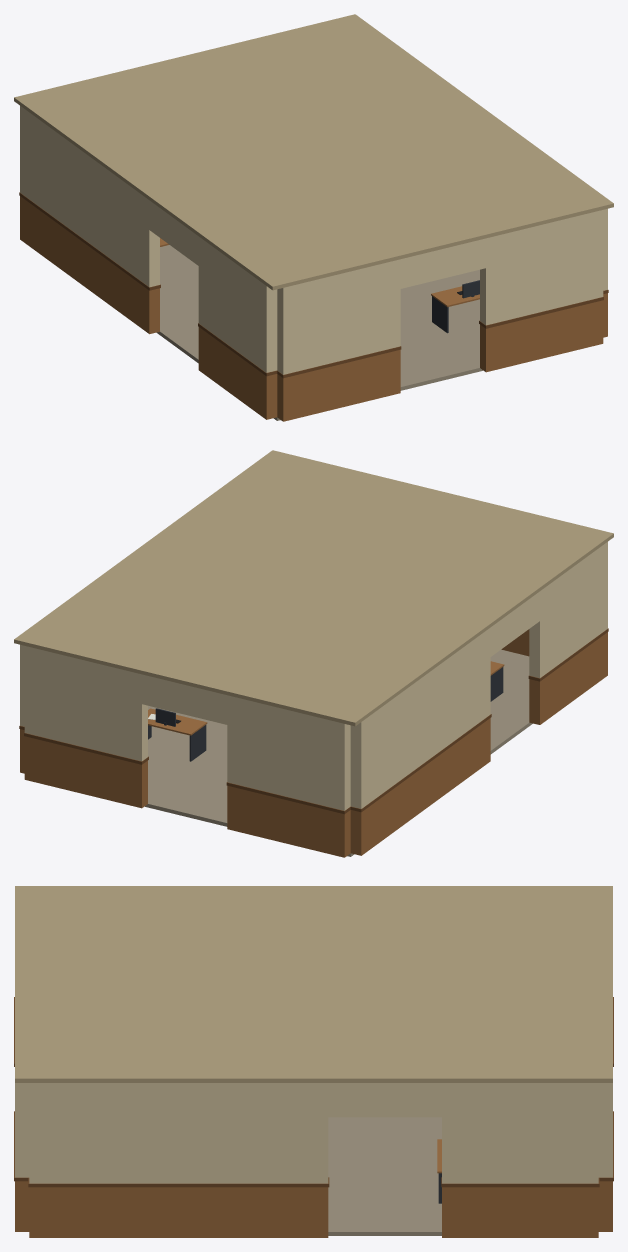
The model's file is room_shared_office.glb.
3 renders of one model, top to bottom at view 1: azimuth 30°, elevation 25°; view 2: azimuth 150°, elevation 25°; view 3: azimuth 270°, elevation 25°, orthographic. The views are drawn at different scales.
Visible parts, largest first — view 1: room_shared_office; view 2: room_shared_office; view 3: room_shared_office.
Part boxes in pixels (bbox=[...]): room_shared_office: bbox=[14, 14, 613, 421]; room_shared_office: bbox=[14, 450, 613, 857]; room_shared_office: bbox=[14, 886, 613, 1237].
Bounding box in the file's own units: 9.62 × 3.8 × 12.64.
Materials: 1 (1 with a texture image).
